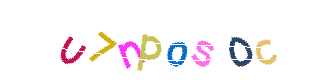0: (144, 0, 224, 80)
7: (64, 0, 144, 80)
C: (200, 0, 280, 80)
N: (119, 0, 199, 80)
O: (131, 0, 211, 80)
P: (123, 0, 203, 80)
S: (137, 0, 217, 80)
U: (31, 0, 111, 80)
